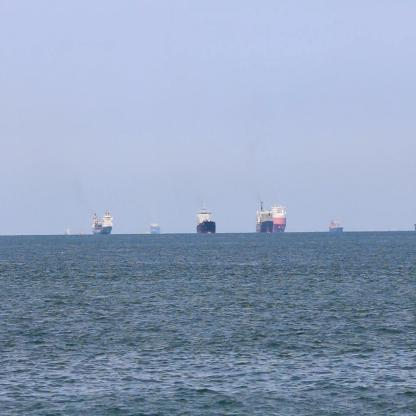Container Ship: (195, 203, 217, 236), (255, 201, 274, 235), (92, 209, 114, 236), (272, 203, 288, 234), (328, 218, 344, 236), (148, 219, 162, 234), (64, 225, 72, 237), (80, 227, 86, 237)
